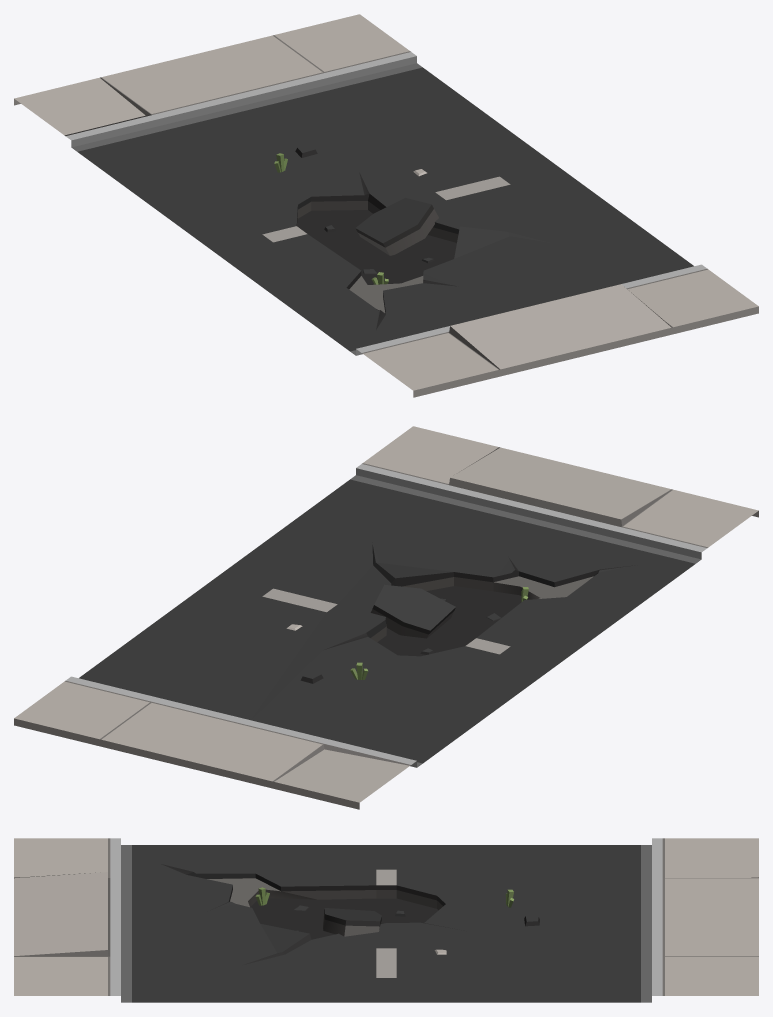
Rendered from SA_Env_RoadStraight_Damaged_06.fbx.
3 views of the same model, one above another, from view 1: azimuth 30°, elevation 25°; view 2: azimuth 150°, elevation 25°; view 3: azimuth 270°, elevation 25° (orthographic). The views are drawn at different scales.
Parts seen in each view (by area): view 1: SA_Env_RoadStraight_Damaged_06; view 2: SA_Env_RoadStraight_Damaged_06; view 3: SA_Env_RoadStraight_Damaged_06.
Part boxes in pixels (<box>): SA_Env_RoadStraight_Damaged_06: <box>14,14,758,397</box>; SA_Env_RoadStraight_Damaged_06: <box>14,426,758,809</box>; SA_Env_RoadStraight_Damaged_06: <box>14,838,758,1002</box>.
Bounding box in the file's own units: 10 × 0.9825 × 20.
Materials: 1 (1 with a texture image).
